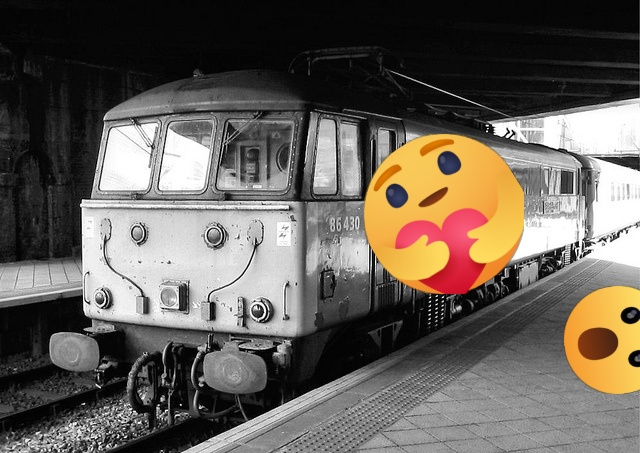care: (364, 134, 524, 294)
wow: (564, 286, 640, 394)
